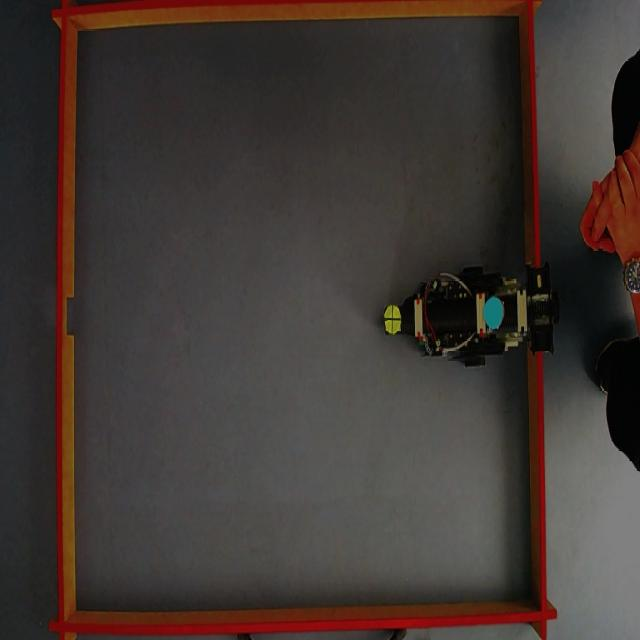robot: (382, 265, 557, 370)
robot-front: (384, 304, 402, 335)
robot-rear: (484, 292, 504, 330)
